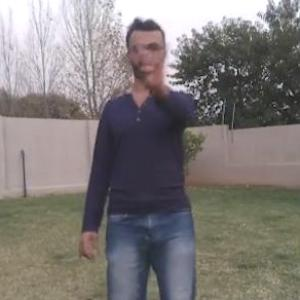takeoff-hand: (136, 46, 174, 89)
